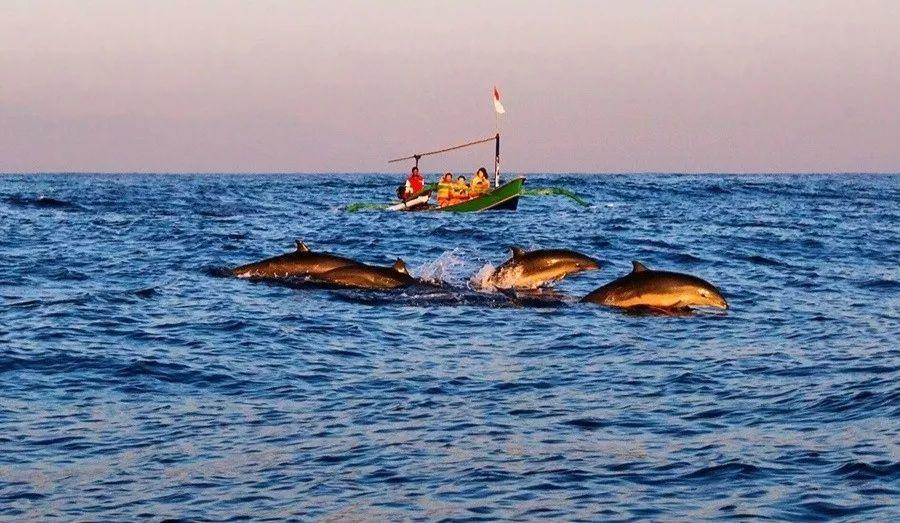fish: (571, 259, 736, 318), (469, 244, 601, 295)
